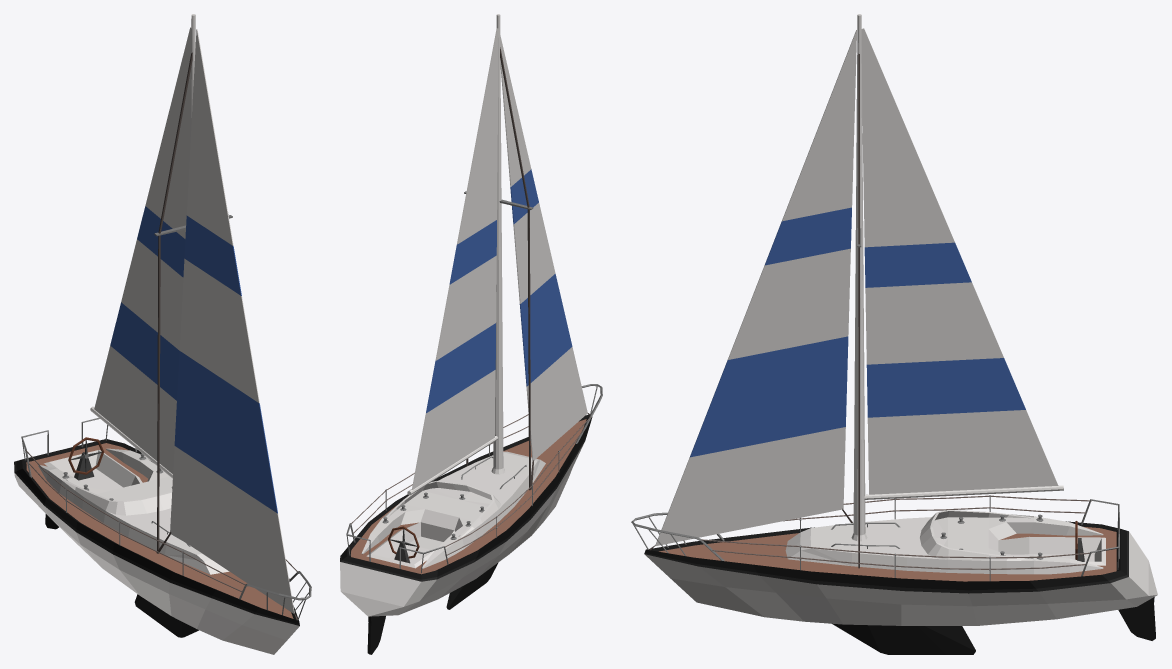
The model's file is Sailboat C.fbx.
3 views of the same model, side by side, from view 1: azimuth 30°, elevation 25°; view 2: azimuth 150°, elevation 25°; view 3: azimuth 270°, elevation 25° (orthographic). The views are drawn at different scales.
Parts seen in each view (by area): view 1: Sailboat C; view 2: Sailboat C; view 3: Sailboat C.
Boxes of the visible parts, x1,y1,x2,y2 form: Sailboat C: (14,14,311,654); Sailboat C: (340,14,602,654); Sailboat C: (631,14,1157,654).
Size of the model in its own units: 454 by 2119 by 1583.
